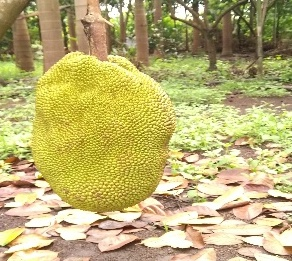Mit: (32, 53, 177, 217)
